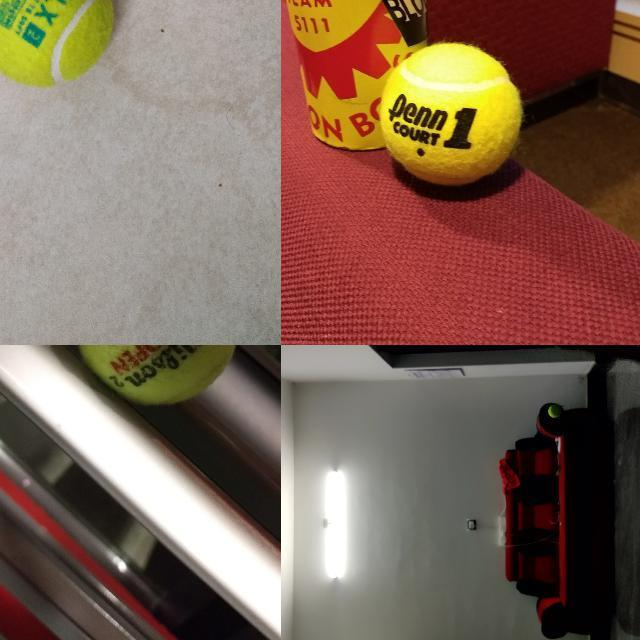tennis-ball: (380, 42, 523, 186), (71, 345, 243, 410), (0, 0, 115, 88), (547, 405, 561, 418)
